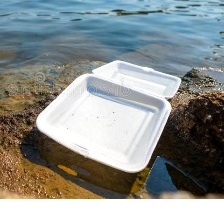foam_box: (31, 55, 187, 177)
